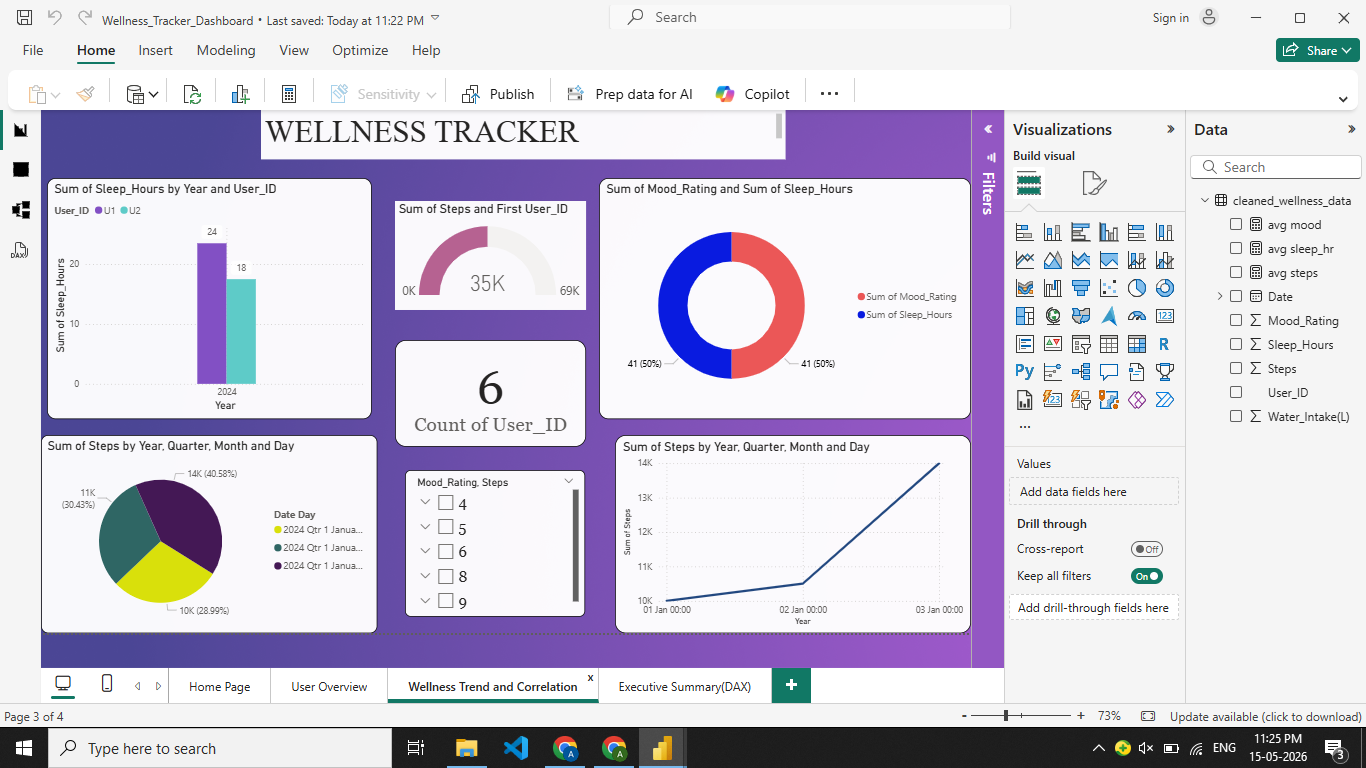

The page's visual inventory and layout, read from the dashboard file:
{"tool":"powerbi","page":{"name":"Wellness Trend and Correlation","canvas":[1280,720],"ordinal":2},"visuals":[{"type":"lineClusteredColumnComboChart","fields":{"Category":["cleaned_wellness_data.Date.Variation.Date Hierarchy.Year","cleaned_wellness_data.Date.Variation.Date Hierarchy.Quarter","cleaned_wellness_data.Date.Variation.Date Hierarchy.Month","cleaned_wellness_data.Date.Variation.Date Hierarchy.Day"],"Y":["Sum(cleaned_wellness_data.Sleep_Hours)"],"Series":["cleaned_wellness_data.User_ID"]},"box":[8.3,93.3,446.7,331.7],"z":0},{"type":"pieChart","fields":{"Category":["cleaned_wellness_data.Date.Variation.Date Hierarchy.Year","cleaned_wellness_data.Date.Variation.Date Hierarchy.Quarter","cleaned_wellness_data.Date.Variation.Date Hierarchy.Month","cleaned_wellness_data.Date.Variation.Date Hierarchy.Day"],"Y":["Sum(cleaned_wellness_data.Steps)"]},"box":[0,446.7,463.3,273.3],"z":1000},{"type":"donutChart","fields":{"Y":["Sum(cleaned_wellness_data.Mood_Rating(1-10))","Sum(cleaned_wellness_data.Sleep_Hours)"]},"box":[768.3,93.3,511.7,331.7],"z":2000},{"type":"lineChart","fields":{"Y":["Sum(cleaned_wellness_data.Steps)"],"Category":["cleaned_wellness_data.Date.Variation.Date Hierarchy.Year","cleaned_wellness_data.Date.Variation.Date Hierarchy.Quarter","cleaned_wellness_data.Date.Variation.Date Hierarchy.Month","cleaned_wellness_data.Date.Variation.Date Hierarchy.Day"]},"box":[790,446.7,490,273.3],"z":3000},{"type":"card","fields":{"Values":["CountNonNull(cleaned_wellness_data.User_ID)"]},"box":[486.7,316.7,263.3,146.7],"z":4000},{"type":"slicer","fields":{"Values":["cleaned_wellness_data.Mood_Rating(1-10)","cleaned_wellness_data.Steps"]},"box":[501.7,495,248.3,201.7],"z":5000},{"type":"gauge","fields":{"Y":["Sum(cleaned_wellness_data.Steps)"]},"box":[486.7,125,263.3,150],"z":6000},{"type":"textbox","box":[303.3,0,721.7,68.3],"z":7000}]}

Visuals, with their boxes on the page's 1280x720 design canvas (x1, y1, x2, y2). These are canvas units, not pixel positions in the 1366x768 screenshot, which may show the page scaled, cropped or inside an application window:
lineClusteredColumnComboChart - cleaned_wellness_data.Date.Variation.Date Hierarchy.Year x cleaned_wellness_data.Date.Variation.Date Hierarchy.Quarter: 8 93 455 425
pieChart - cleaned_wellness_data.Date.Variation.Date Hierarchy.Year x cleaned_wellness_data.Date.Variation.Date Hierarchy.Quarter: 0 447 463 720
donutChart - Sum(cleaned_wellness_data.Mood_Rating(1-10)) x Sum(cleaned_wellness_data.Sleep_Hours): 768 93 1280 425
lineChart - Sum(cleaned_wellness_data.Steps) x cleaned_wellness_data.Date.Variation.Date Hierarchy.Year: 790 447 1280 720
card - CountNonNull(cleaned_wellness_data.User_ID): 487 317 750 463
slicer - cleaned_wellness_data.Mood_Rating(1-10) x cleaned_wellness_data.Steps: 502 495 750 697
gauge - Sum(cleaned_wellness_data.Steps): 487 125 750 275
textbox: 303 0 1025 68
